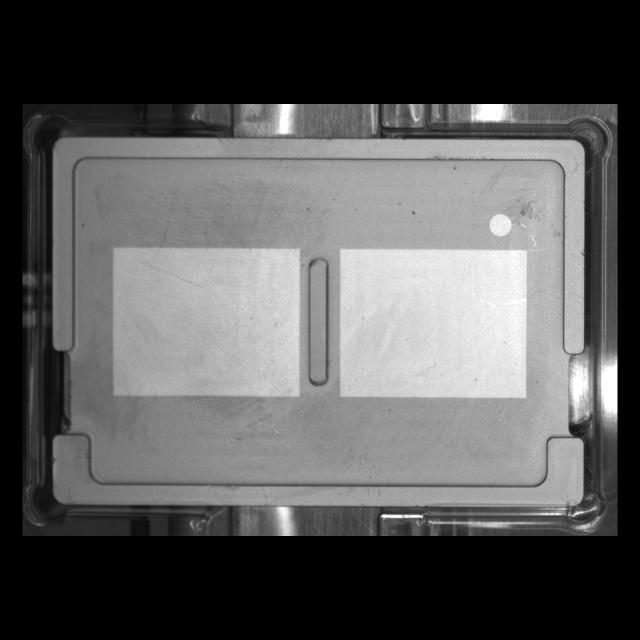door: (41, 425, 594, 520)
point: (482, 204, 520, 243)
